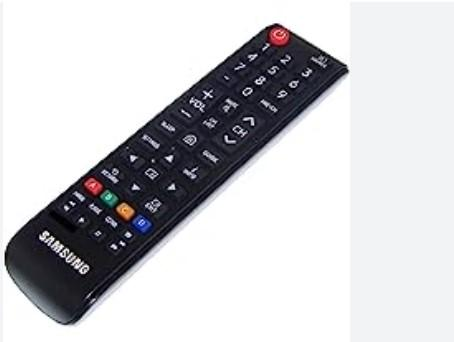Remote control: (3, 24, 349, 327)
